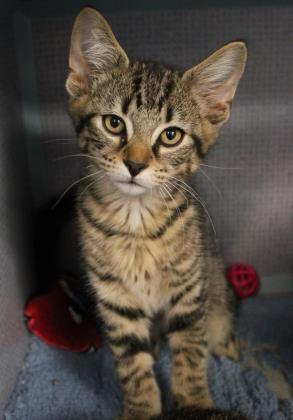bengal: (48, 1, 259, 206)
